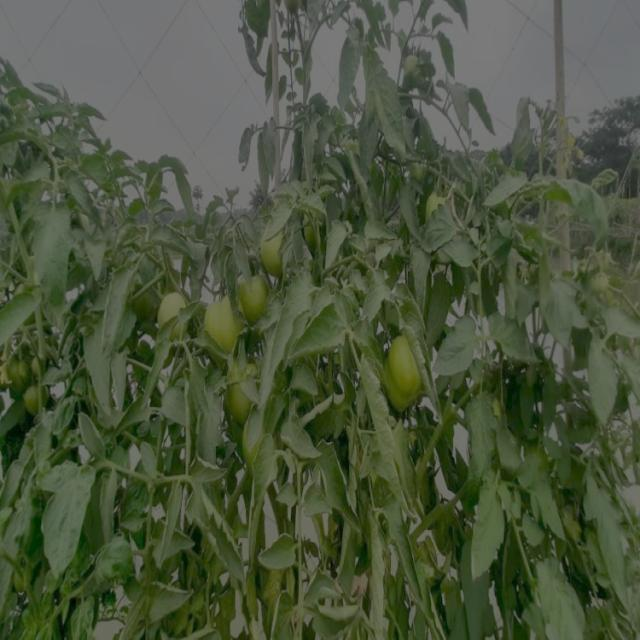tomato: (378, 327, 425, 405), (204, 293, 244, 357), (260, 207, 296, 276), (237, 272, 273, 324), (157, 287, 191, 341), (227, 372, 260, 419), (238, 424, 268, 471), (424, 185, 454, 224), (304, 193, 326, 244), (5, 352, 32, 381), (19, 384, 42, 417), (592, 268, 616, 299), (405, 50, 425, 79), (11, 567, 28, 593)
